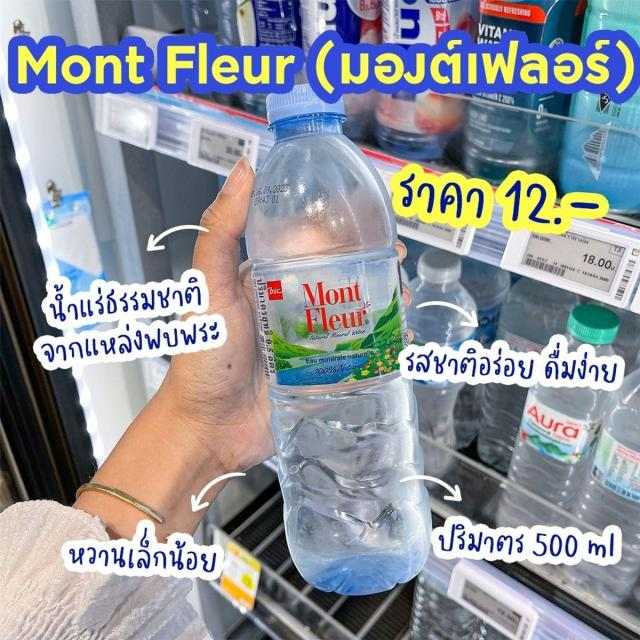bottle: (236, 48, 419, 626)
